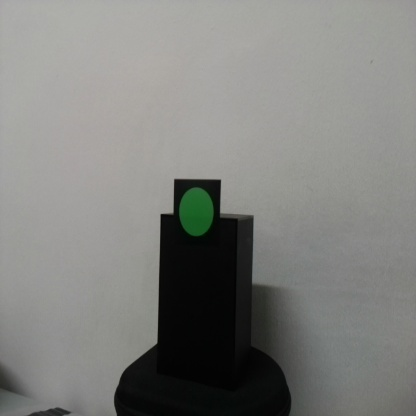id_5: (174, 179, 221, 249)
